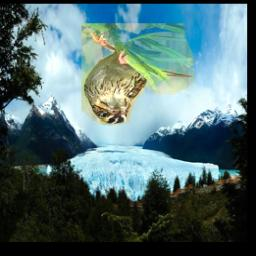Sparrow: (82, 23, 195, 126)
